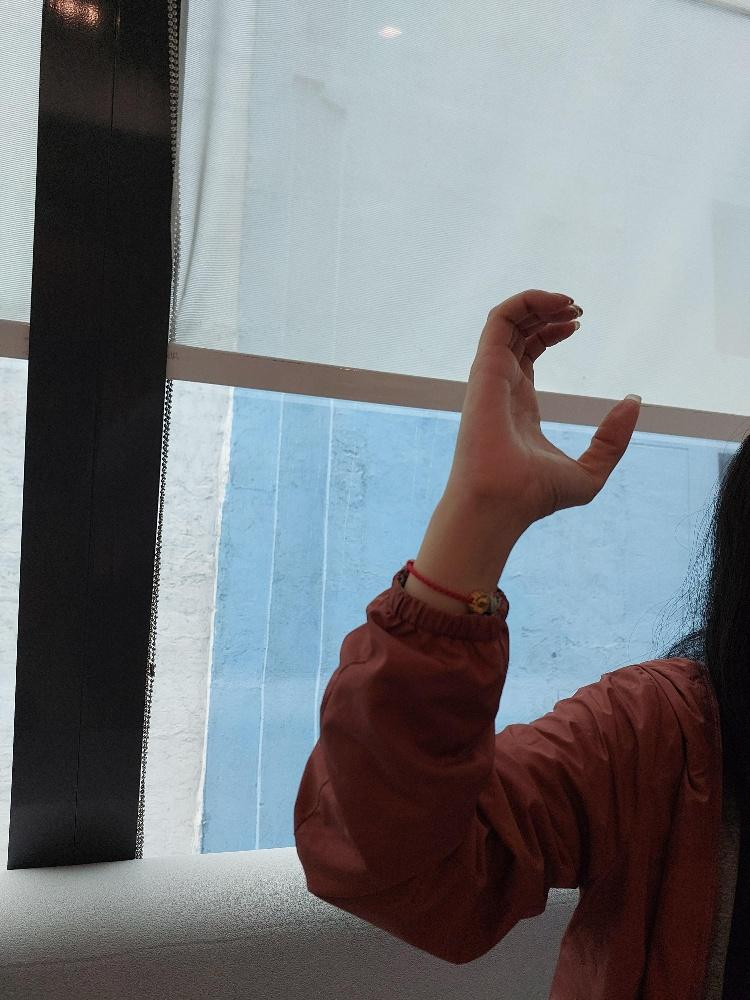c: (449, 284, 646, 521)
